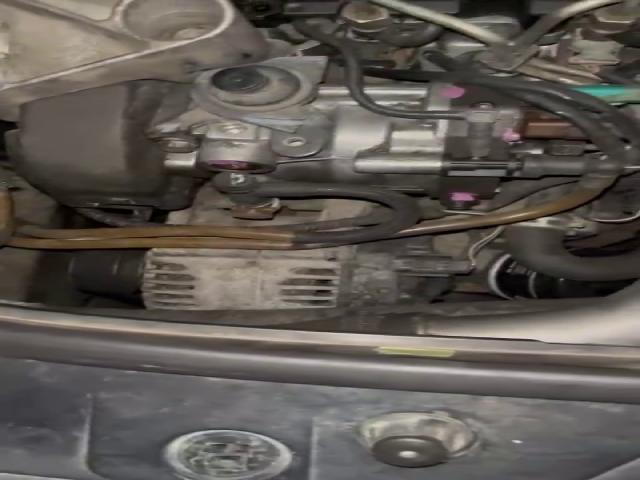alternator: (141, 234, 477, 309)
high_pressure_pump: (158, 78, 572, 211)
